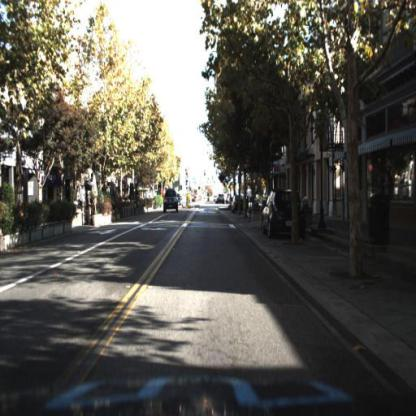car: (259, 187, 308, 242), (230, 192, 251, 218), (162, 188, 182, 215), (160, 192, 179, 219)
